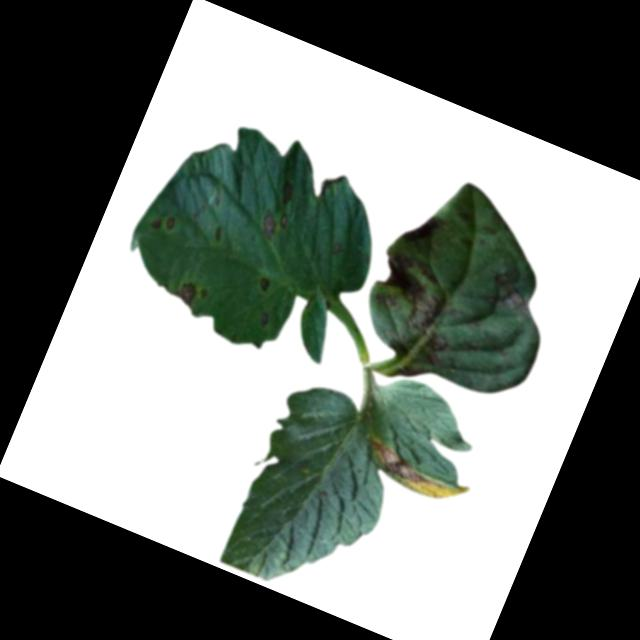Early_blight: (355, 248, 478, 372), (356, 434, 477, 513), (479, 266, 545, 322), (401, 209, 447, 253), (255, 205, 293, 245), (170, 277, 202, 312), (274, 177, 301, 210), (150, 210, 179, 239), (254, 275, 273, 297), (255, 308, 272, 328)
